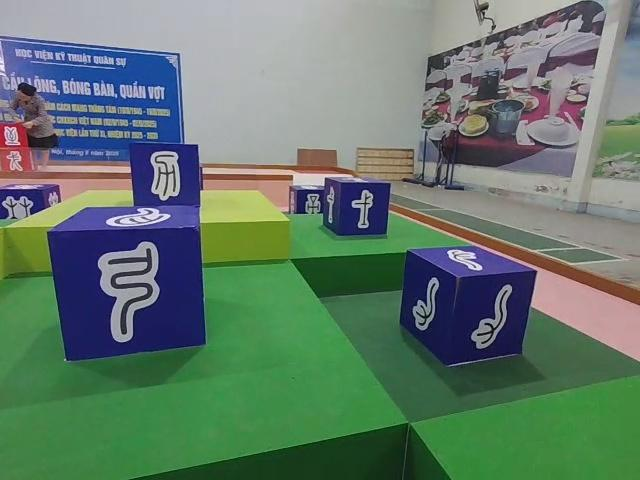R2 Fake Blue: (49, 203, 208, 365), (127, 142, 201, 210)
R2 Real Blue: (402, 248, 537, 371), (322, 178, 391, 240), (0, 185, 60, 224), (286, 186, 325, 216)
